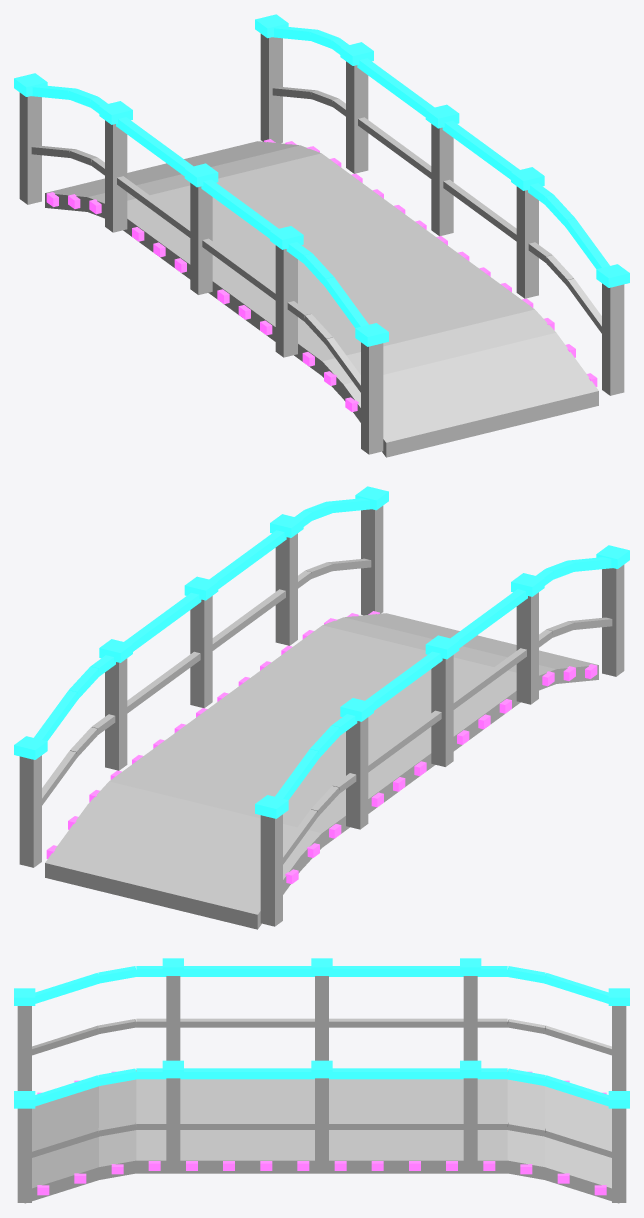
3 renders of one model, top to bottom at view 1: azimuth 30°, elevation 25°; view 2: azimuth 150°, elevation 25°; view 3: azimuth 270°, elevation 25°, orthographic. The views are drawn at different scales.
Visible parts, largest first — view 1: Neon_Footbridge_Standard; view 2: Neon_Footbridge_Standard; view 3: Neon_Footbridge_Standard.
Boxes of the visible parts, bbox=[...] form: Neon_Footbridge_Standard: bbox=[14, 14, 629, 457]; Neon_Footbridge_Standard: bbox=[14, 486, 629, 929]; Neon_Footbridge_Standard: bbox=[14, 958, 629, 1203].
Bounding box in the file's own units: 2.22 × 1.34 × 5.18.
